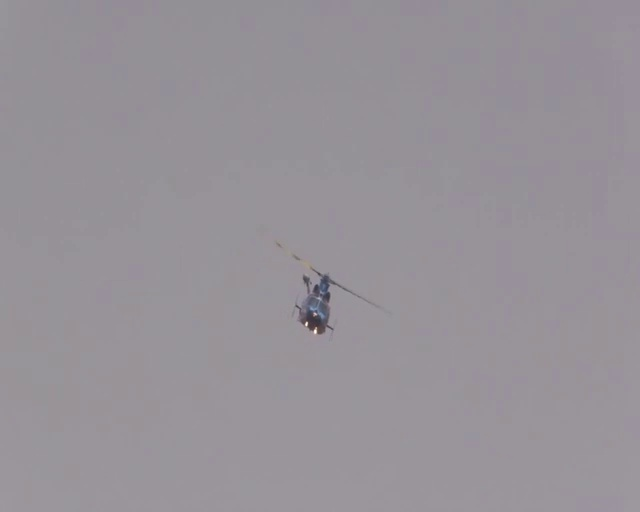HELICOPTER: (275, 240, 391, 335)
